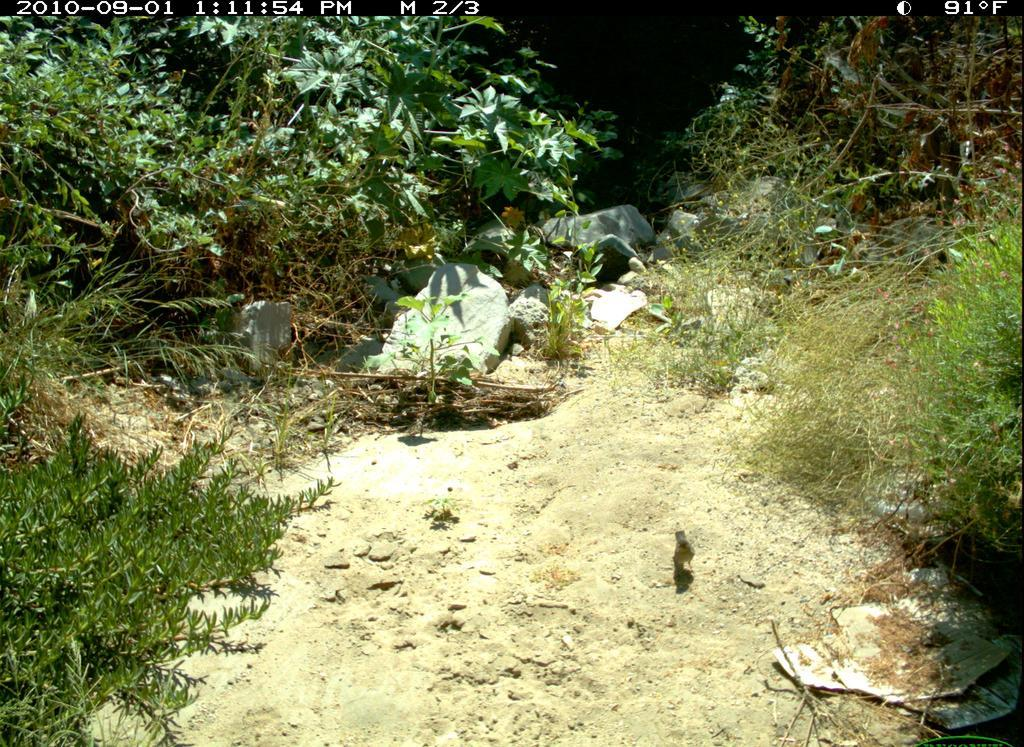bird: (658, 513, 707, 585)
